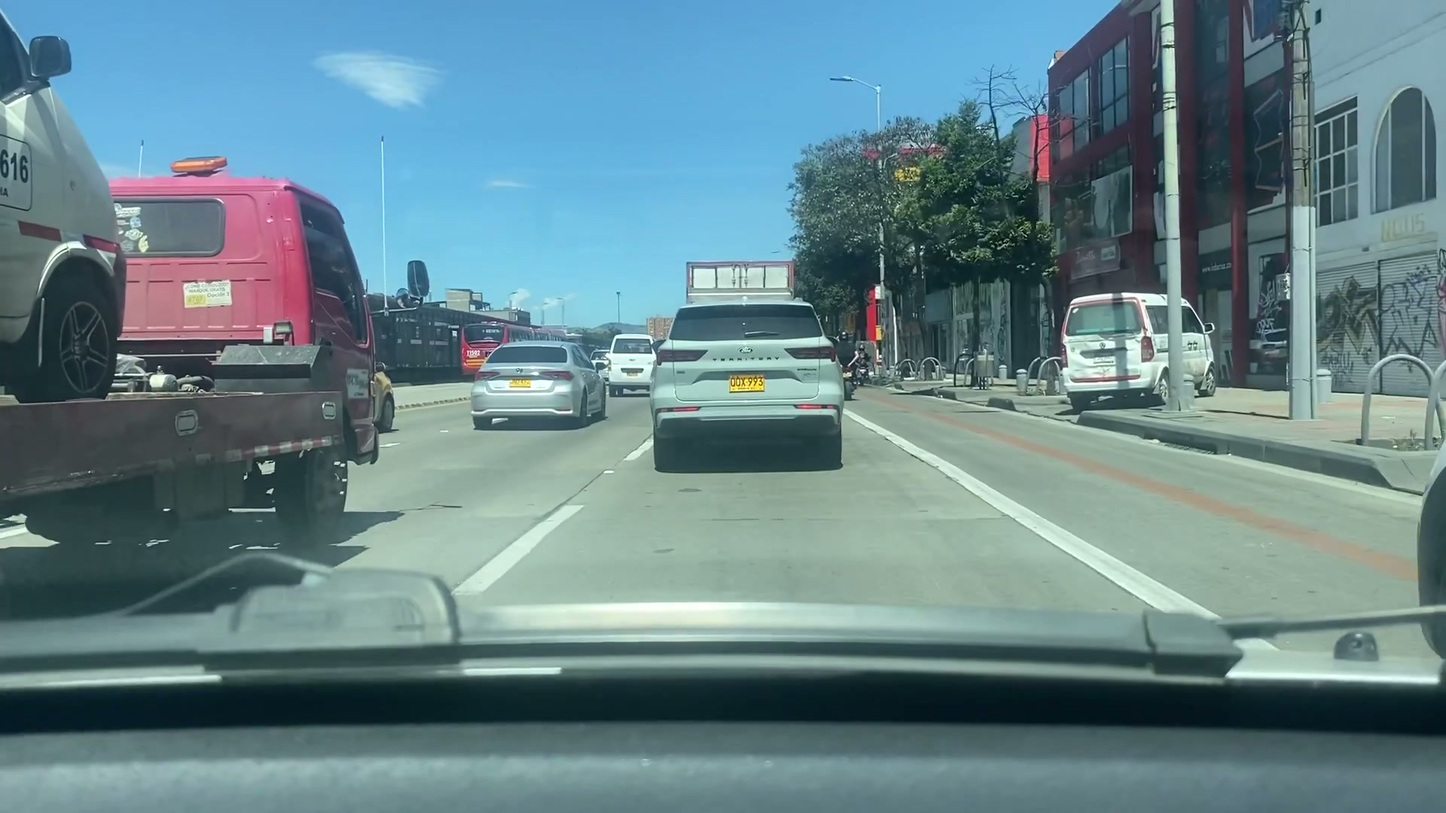bus: (0, 9, 136, 399), (1053, 283, 1222, 415), (607, 331, 656, 400)
car: (651, 298, 845, 463), (465, 339, 611, 423)
truck: (0, 160, 407, 554)
